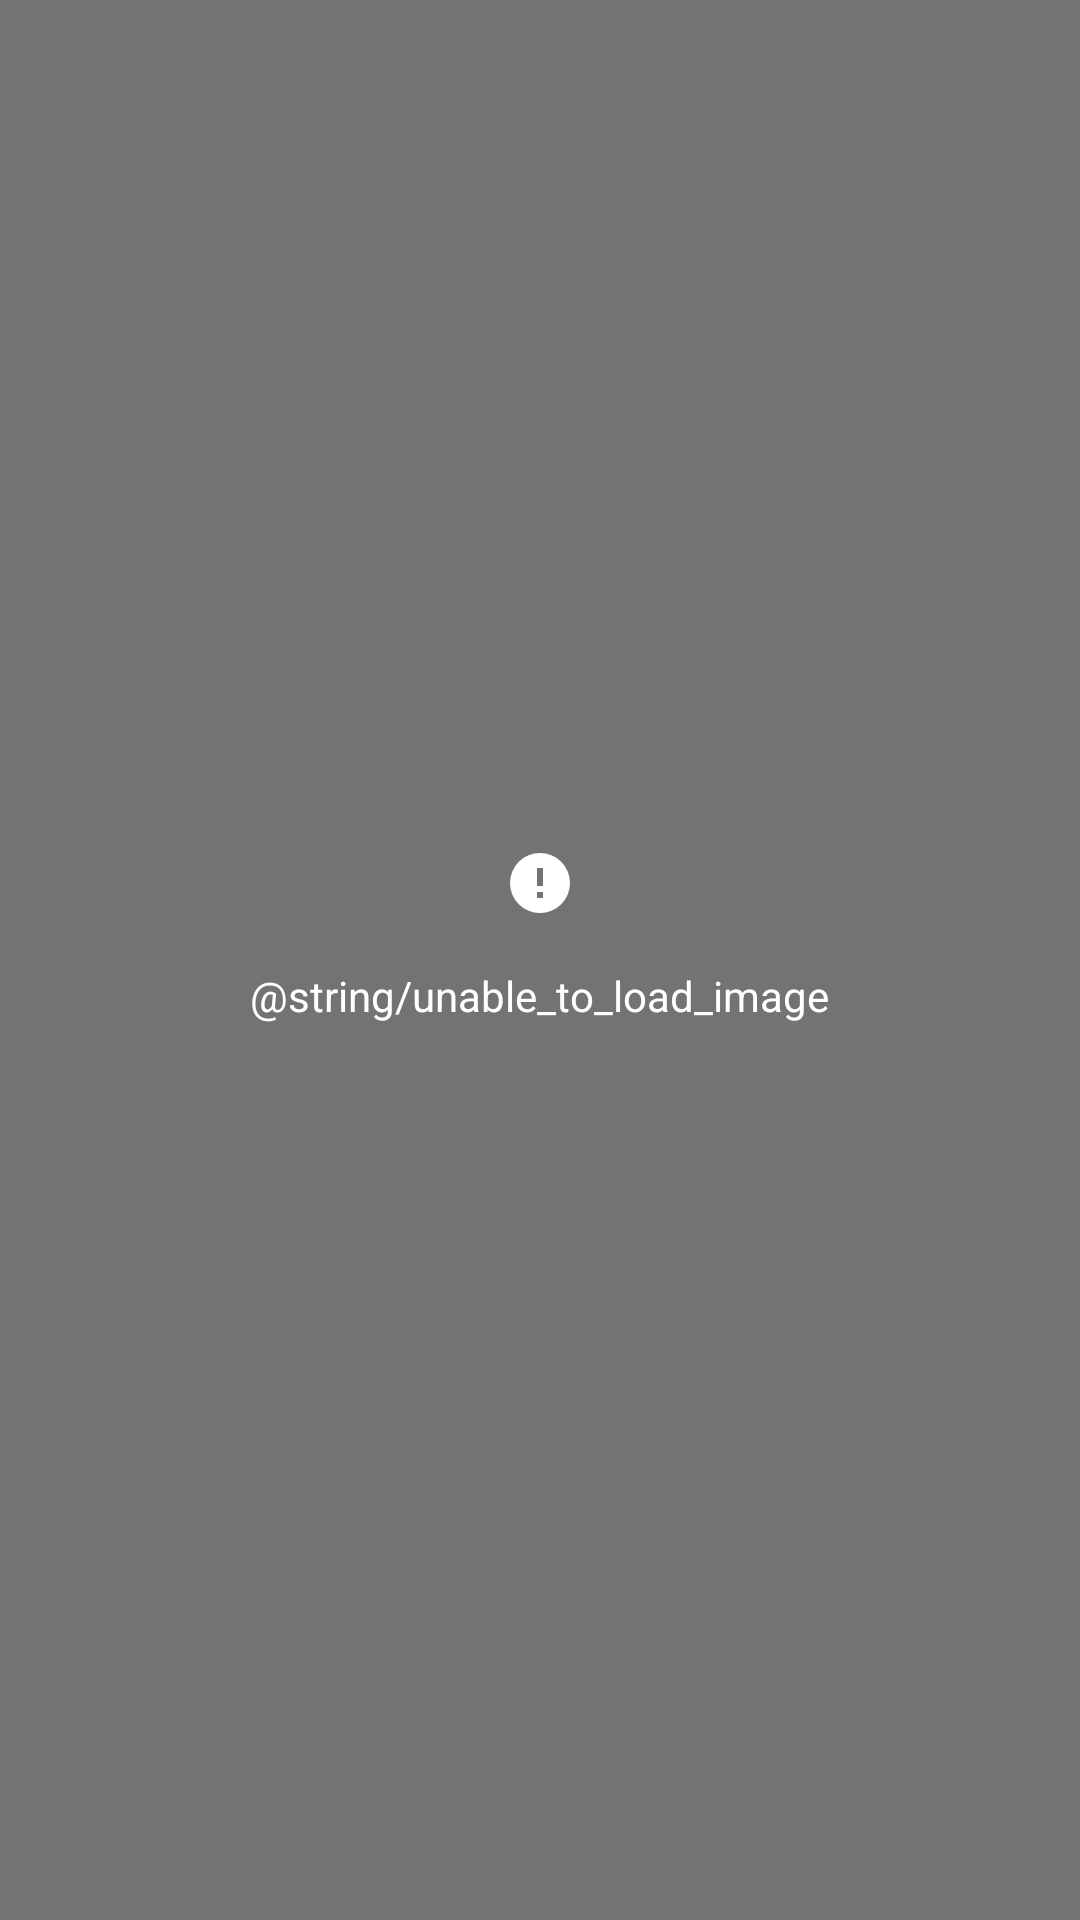

Named icons in this screenshot (1080px x 1920px) and their bounding boxes, (x1, y1, x2, y2):
alert: (510, 853, 570, 913)
